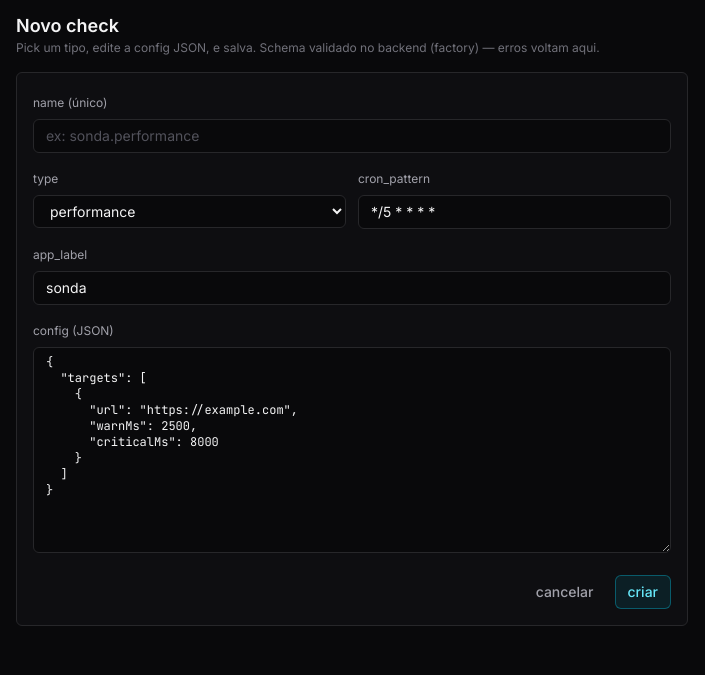
it: CheckNewPage › valida JSON antes de submeter
In the field labelled "name (único)": (352, 136) [33,119,671,153], type "x"
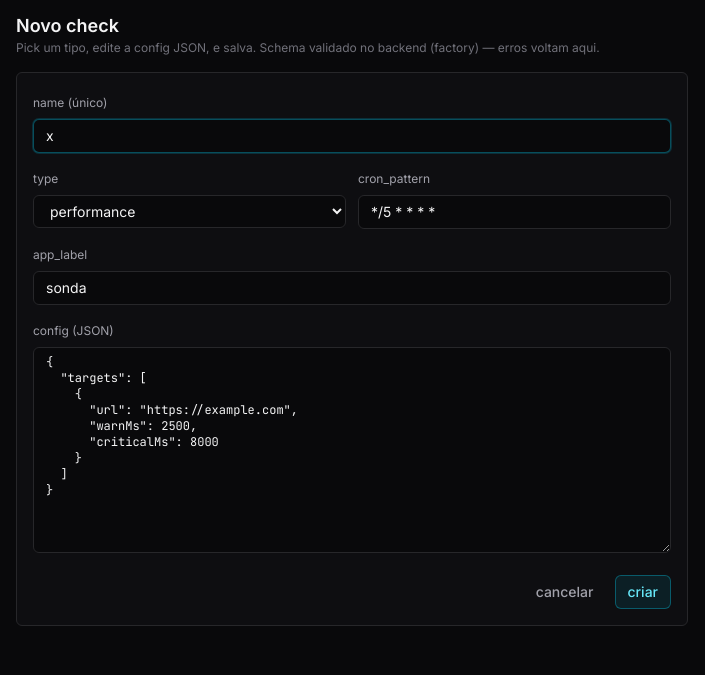
Replace the text in the text box labelled "config (JSON)" with "not-json": (352, 450) [33,347,671,553]
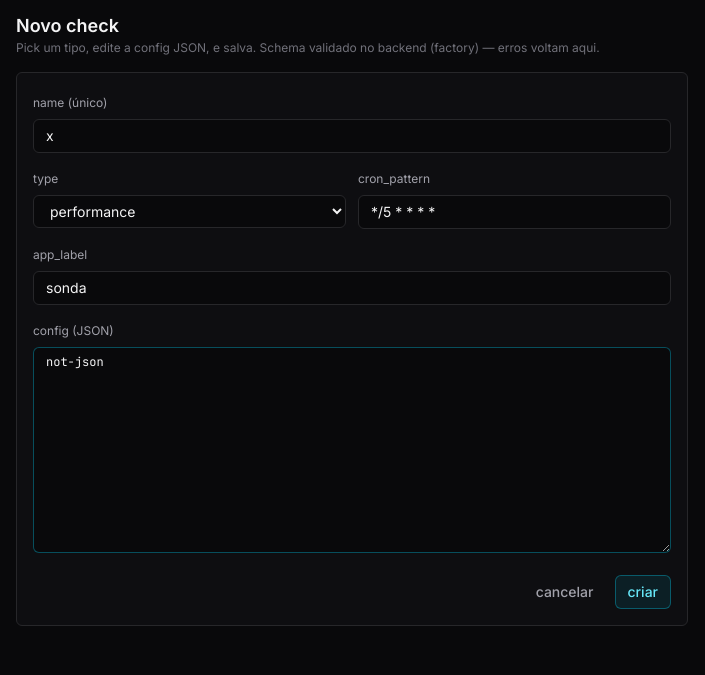
Click the button "criar": (643, 592) [614,575,671,609]
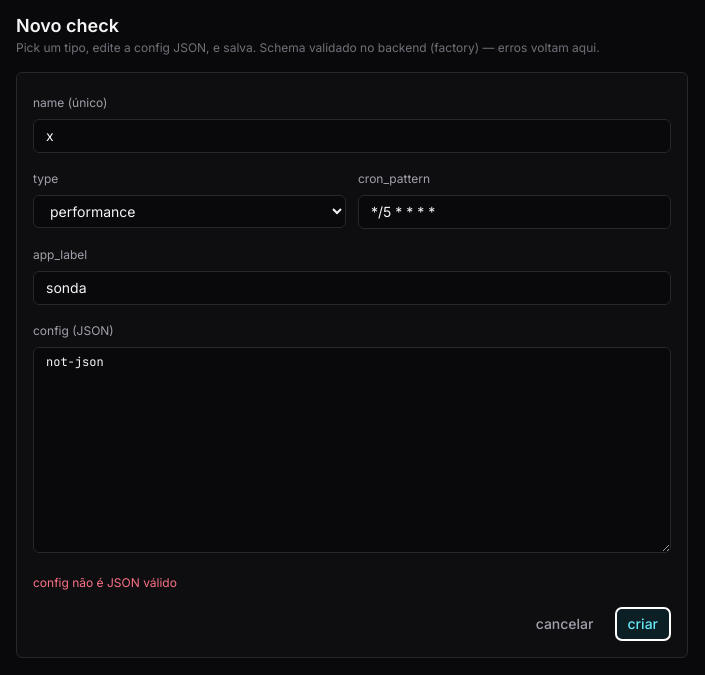
Check: the message shows "JSON", box [33,575,177,590]
